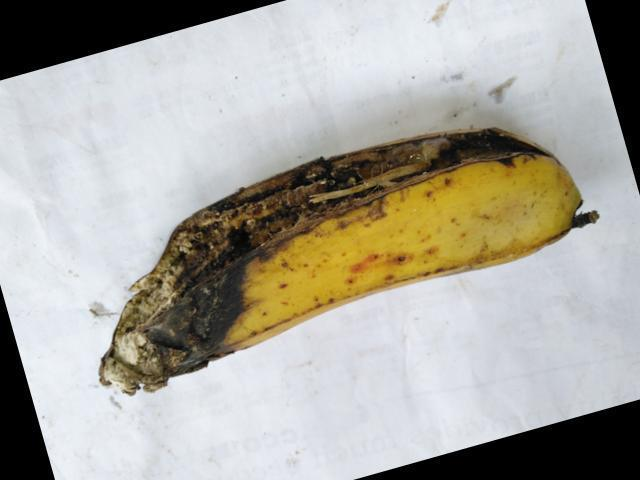rotten: (82, 113, 568, 436)
